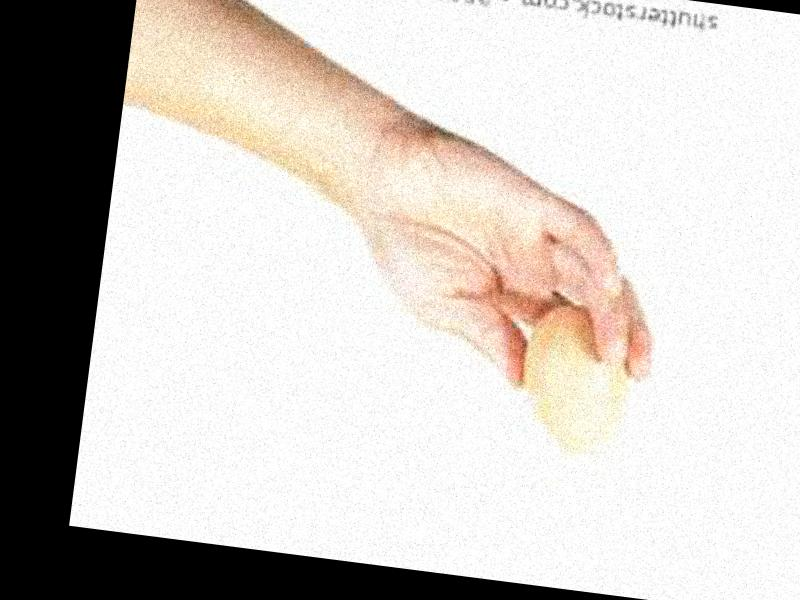Eggs: (513, 294, 638, 461)
